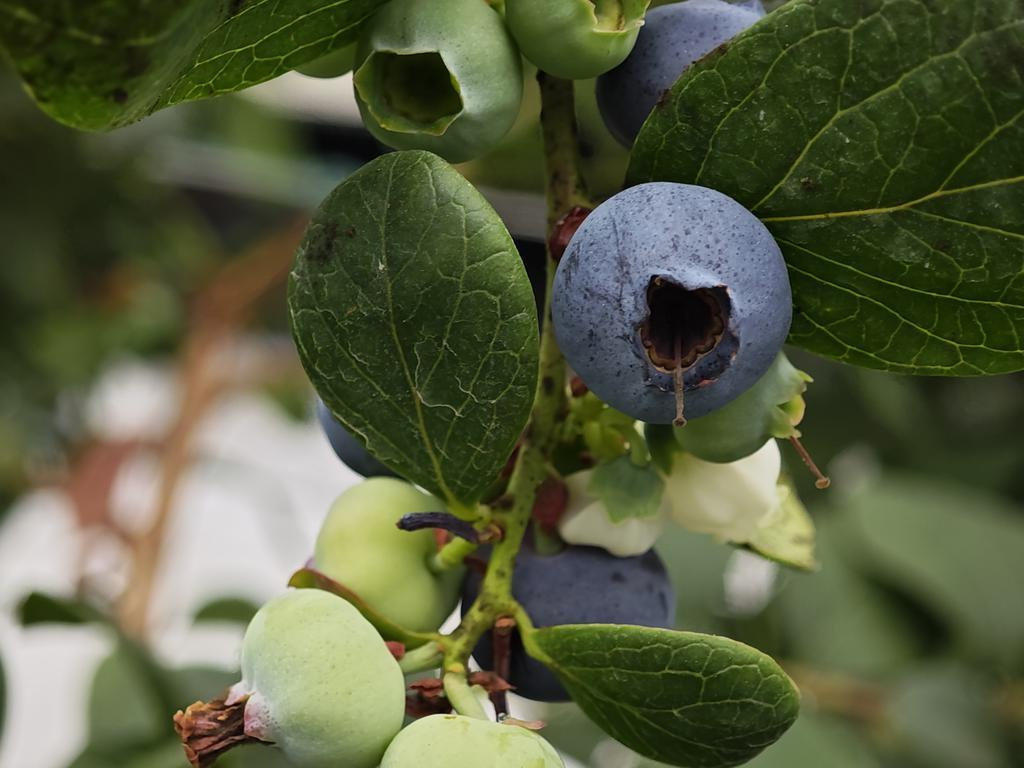RipeBlueBerry: (556, 179, 798, 410)
UnripeBlueBerry: (223, 593, 404, 768), (359, 2, 521, 150)
